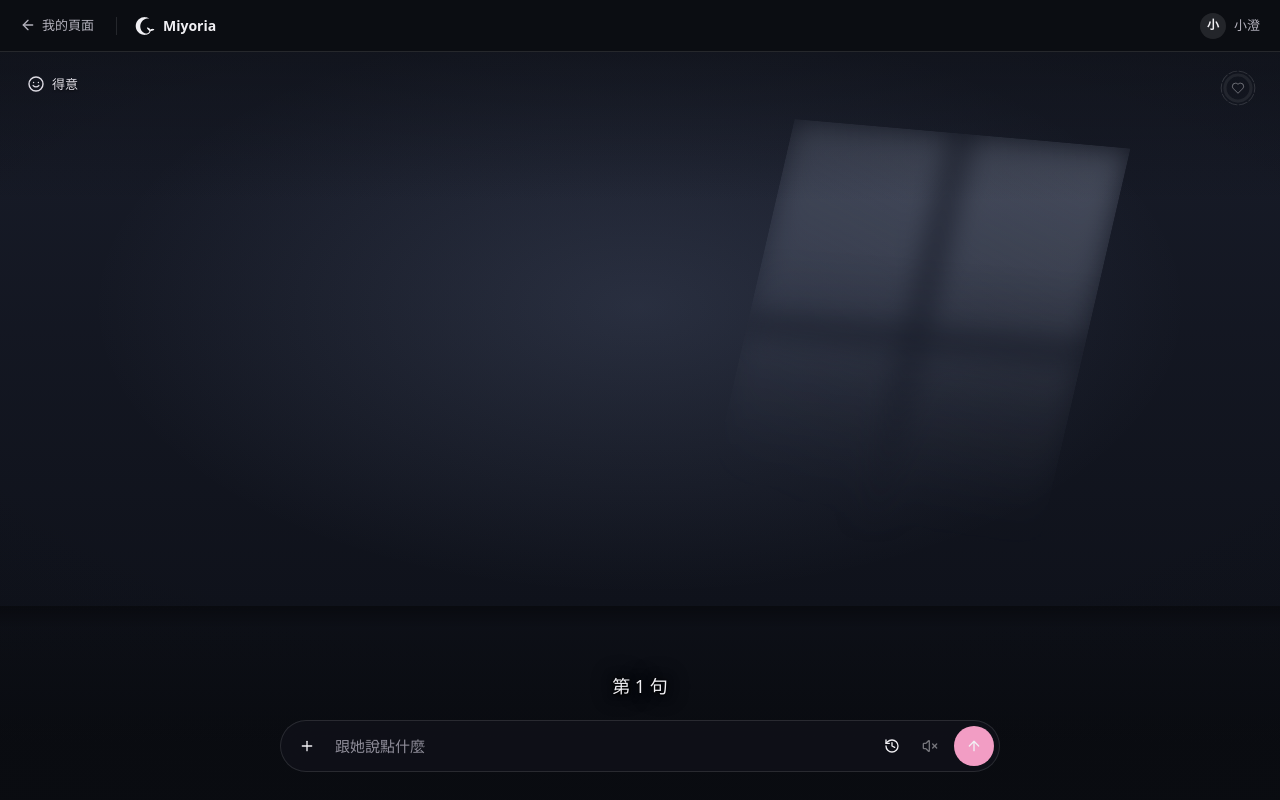
the backlog › lets them take back their own line after one confirmation
Expected: the text box named "跟她說的話" is shown, top-left (327, 734), bottom-right (872, 758)
Click the button named "紀錄" at (892, 746), box top-left (874, 728), bottom-right (910, 764)
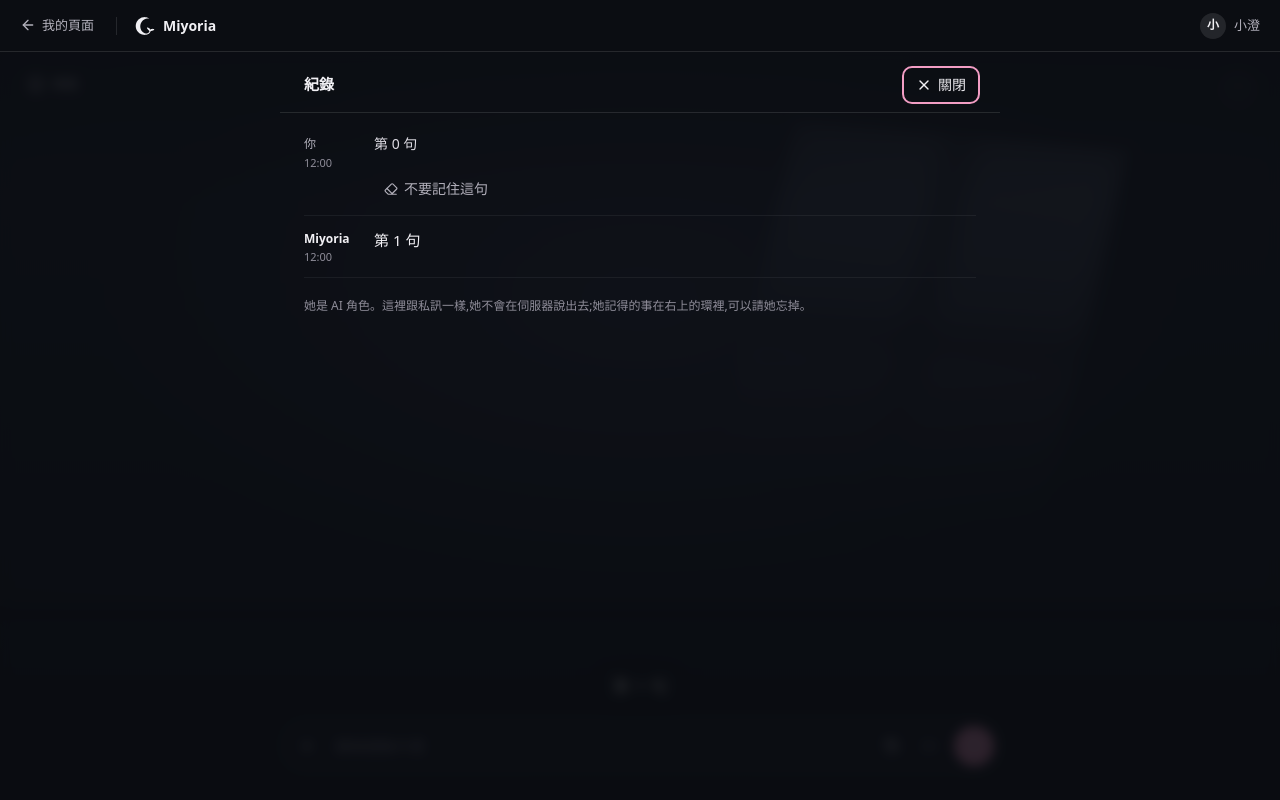
Result: the number of buttons "不要記住這句" is 1
Click the button "不要記住這句" at (436, 189), box top-left (374, 175), bottom-right (498, 203)
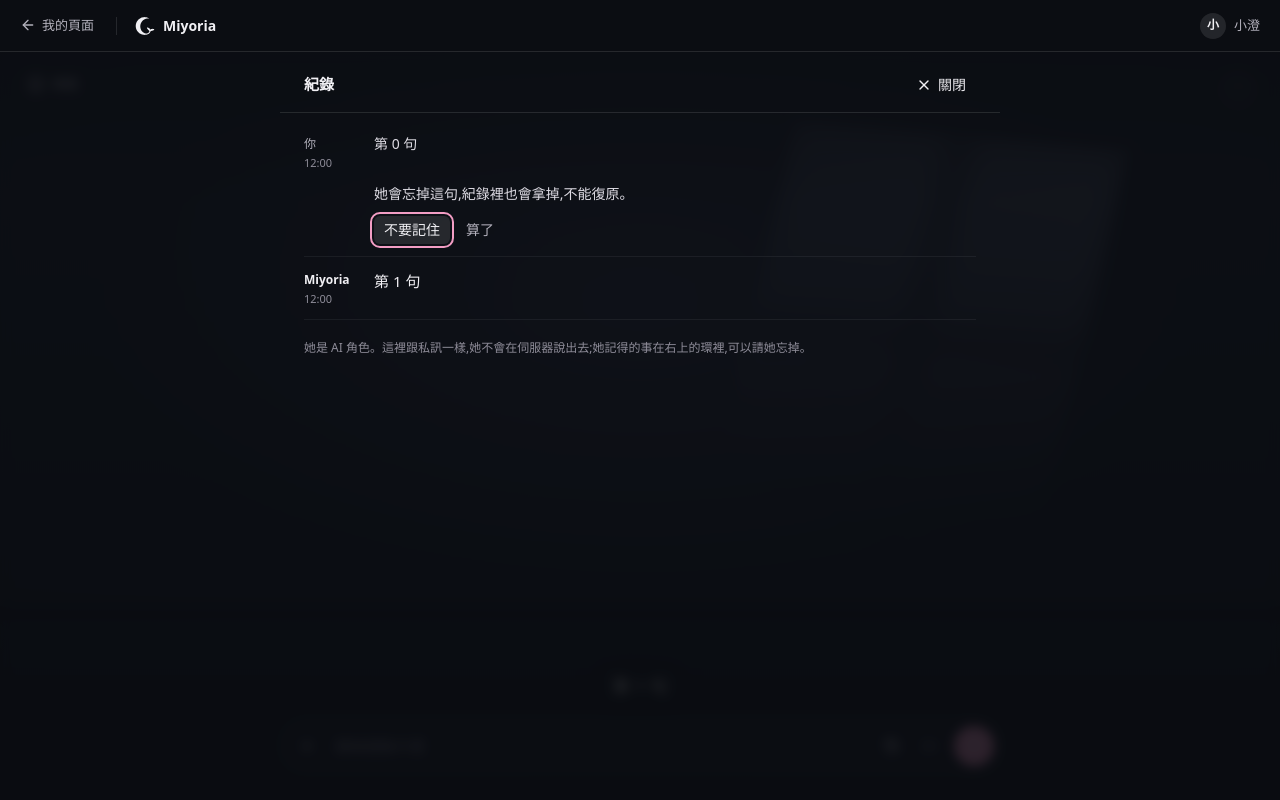
Result: the text "她會忘掉這句,紀錄裡也會拿掉,不能復原。" is shown at top-left (374, 184), bottom-right (634, 203)
Click the button "不要記住" at (412, 230), box top-left (374, 216), bottom-right (450, 244)
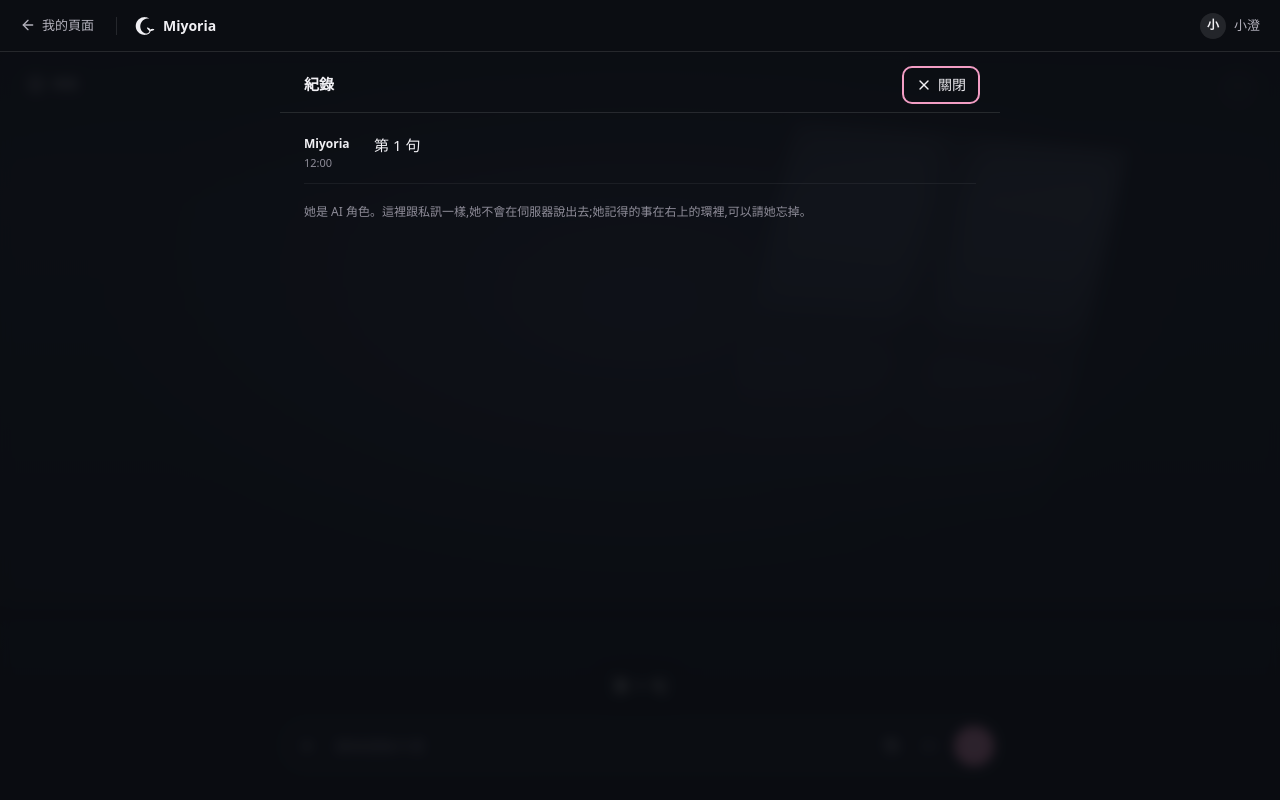
Result: the text "第 0 句" is gone
Note: The button that had focus left with the line: focus stays in the dialog, so Escape closes it.
Press Escape
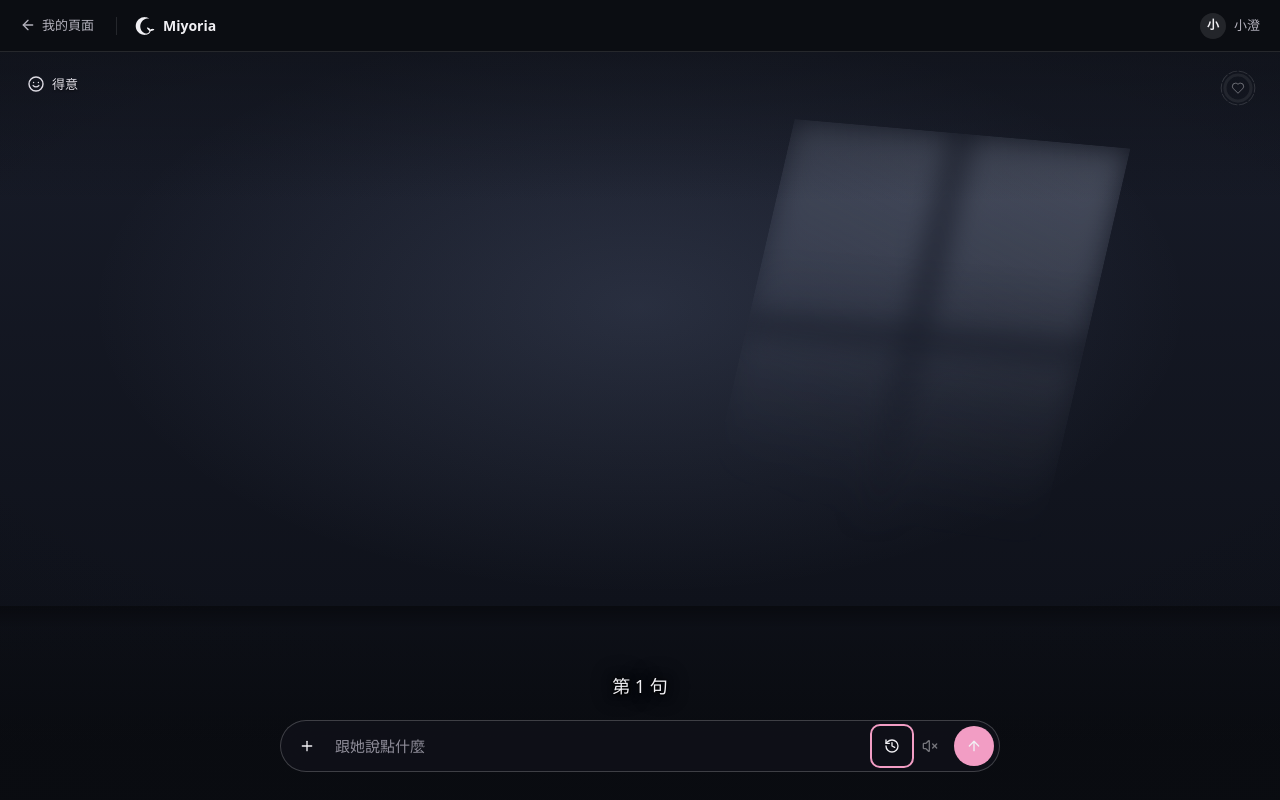
Result: the heading "紀錄" is gone
